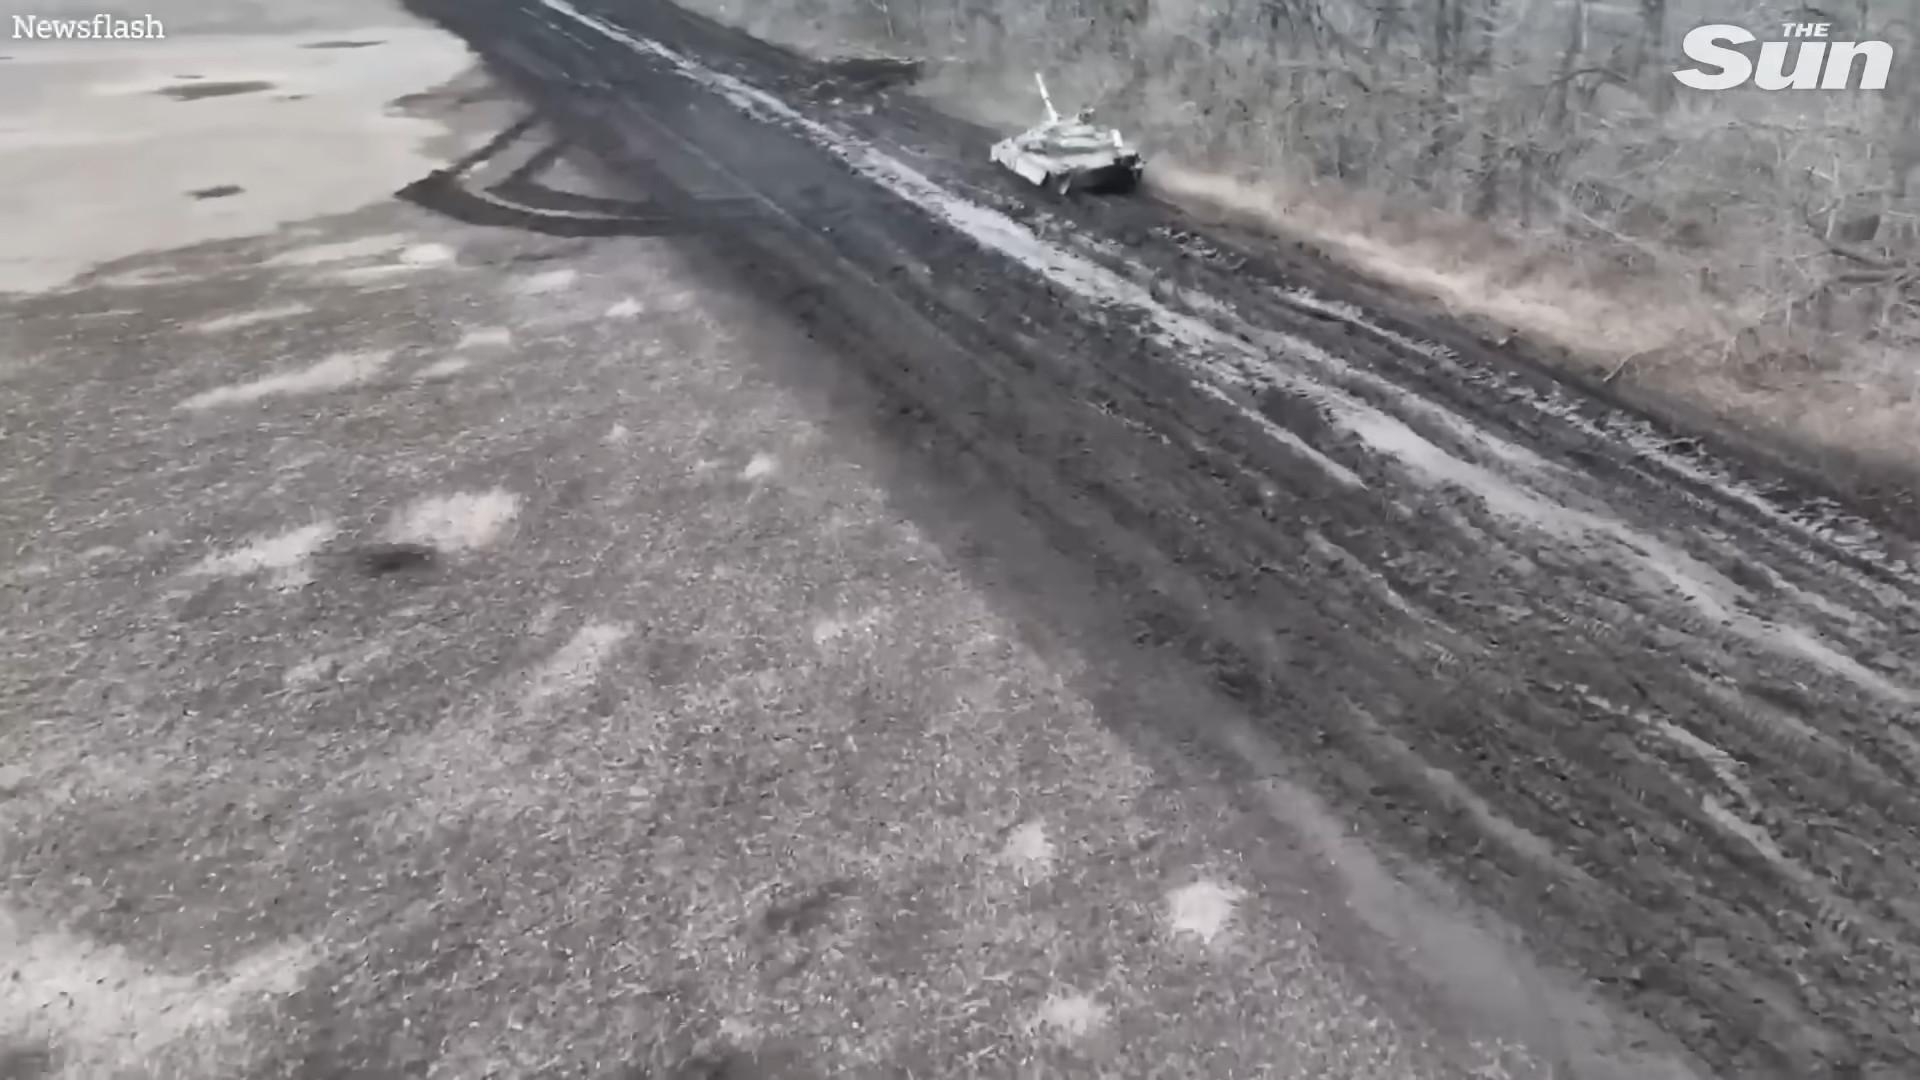tank: (990, 73, 1147, 195)
